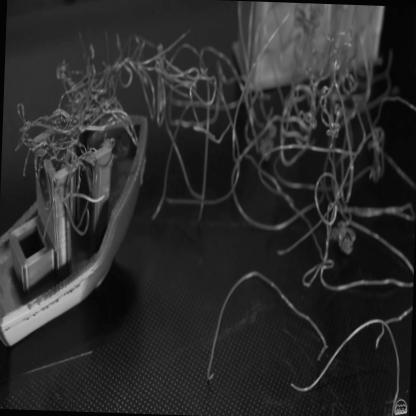fail: (235, 80, 416, 356), (74, 31, 241, 129)
